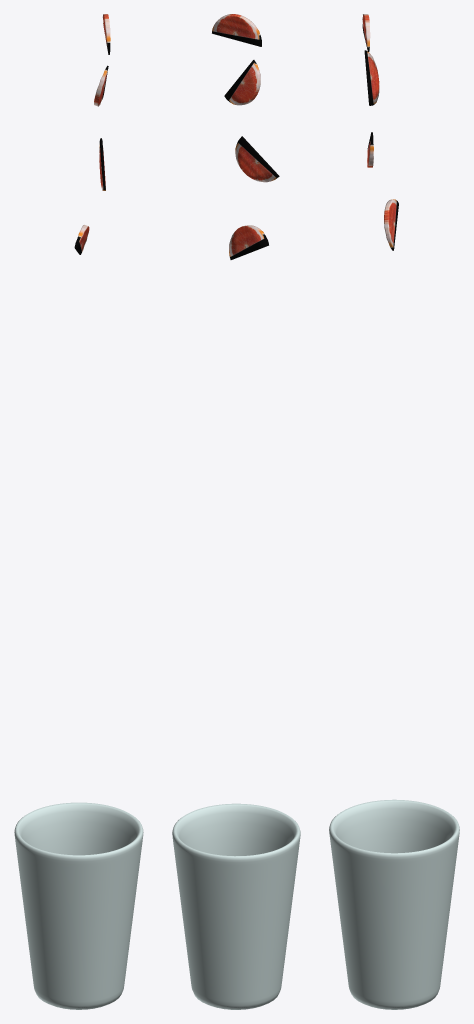
The model's file is PomeloFall.glb.
3 renders of one model, left to right at view 1: azimuth 90°, elevation 25°; view 2: azimuth 150°, elevation 25°; view 3: azimuth 270°, elevation 25°, orthographic.
Visible parts, largest first — view 1: Circle; view 2: Circle, Circle.005, Circle.001, Circle.002, Circle.004; view 3: Circle, Circle.002, Circle.004.
Boxes of the visible parts, x1,y1,x2,y2 form: Circle: [14, 802, 143, 1009]; Circle: [172, 803, 300, 1009]; Circle.005: [212, 14, 261, 46]; Circle.001: [235, 136, 279, 182]; Circle.002: [224, 60, 260, 105]; Circle.004: [229, 225, 268, 259]; Circle: [329, 799, 459, 1009]; Circle.002: [364, 50, 379, 105]; Circle.004: [384, 199, 398, 250].
Size of the model in its own units: 4.66 by 38.82 by 4.66.
2 materials, 1 textured.
